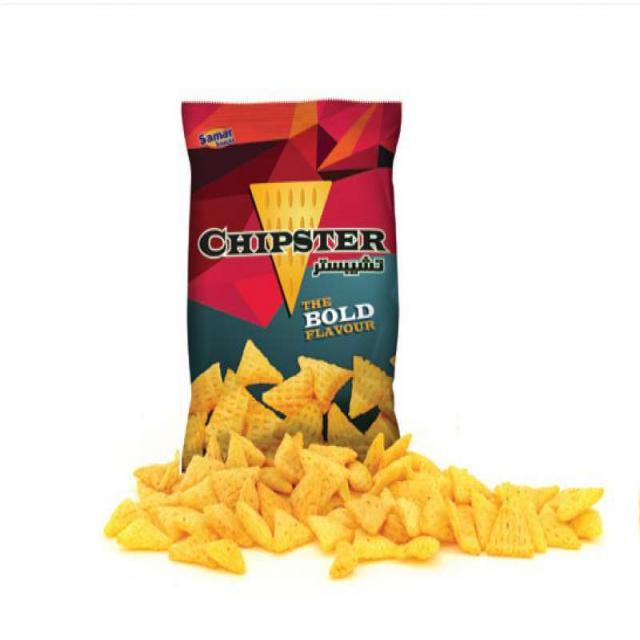Chips: (166, 82, 422, 462)
Chips packaged: (486, 494, 541, 566), (268, 504, 311, 558), (306, 506, 348, 556), (237, 502, 275, 554), (117, 516, 170, 552), (208, 537, 247, 583), (420, 494, 451, 548)
